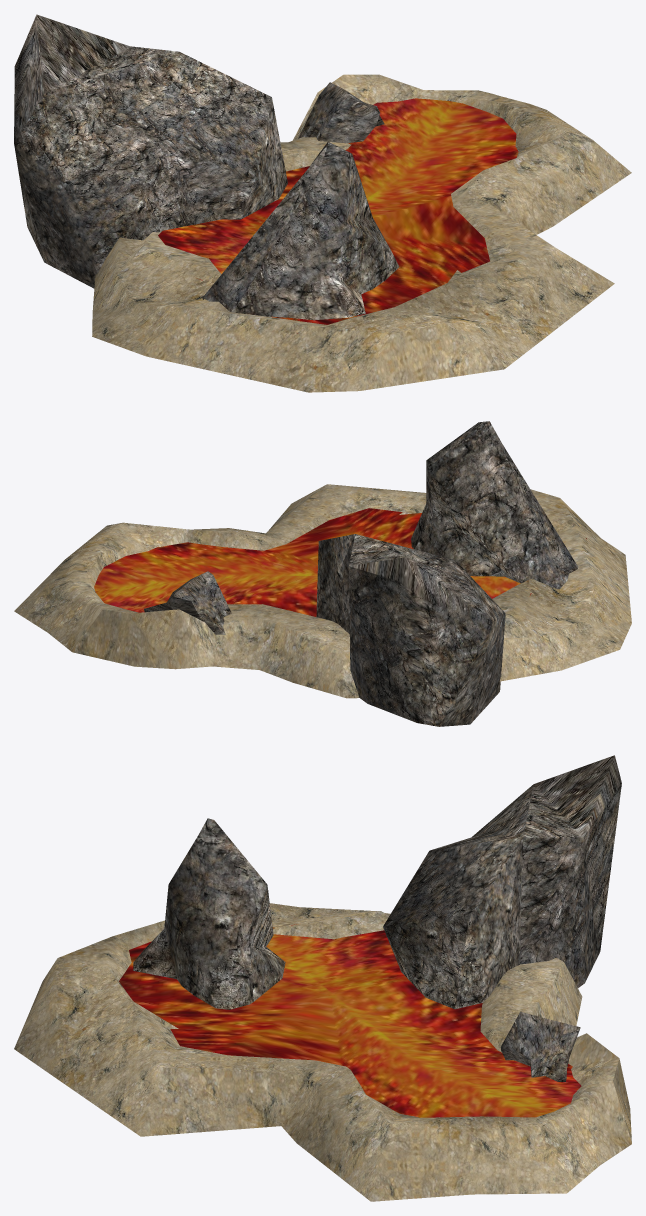
File: pir_m_prp_cav_pool_lavaA.fbx
3 renders of one model, top to bottom at view 1: azimuth 30°, elevation 25°; view 2: azimuth 150°, elevation 25°; view 3: azimuth 270°, elevation 25°, orthographic. The views are drawn at different scales.
Parts seen in each view (by area): view 1: rim, Rock_43, lavaPool, Rock_48, Rock_49; view 2: rim, Rock_43, Rock_48, lavaPool, Rock_49; view 3: rim, lavaPool, Rock_43, Rock_48, Rock_49.
Boxes of the visible parts, x1,y1,x2,y2 form: rim: (92,74,631,392); Rock_43: (14,14,287,288); lavaPool: (158,98,518,333); Rock_48: (202,141,399,320); Rock_49: (298,82,384,143); rim: (14,484,631,698); Rock_43: (316,534,505,726); Rock_48: (411,421,578,589); lavaPool: (94,508,586,616); Rock_49: (144,571,231,634); rim: (14,903,631,1201); lavaPool: (119,924,581,1117); Rock_43: (383,755,621,1009); Rock_48: (133,818,285,1009); Rock_49: (501,1011,580,1081).
Bounding box in the file's own units: 3200 × 1126 × 2842.
3 materials, 3 textured.
